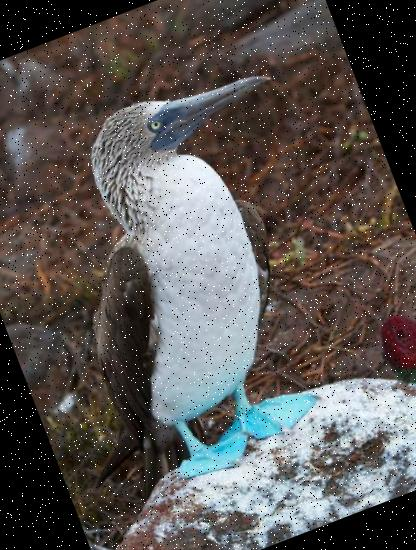Strawberry: (357, 298, 416, 400)
